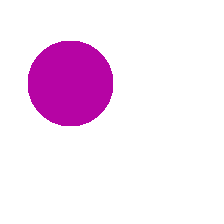circle: (28, 41, 112, 125)
